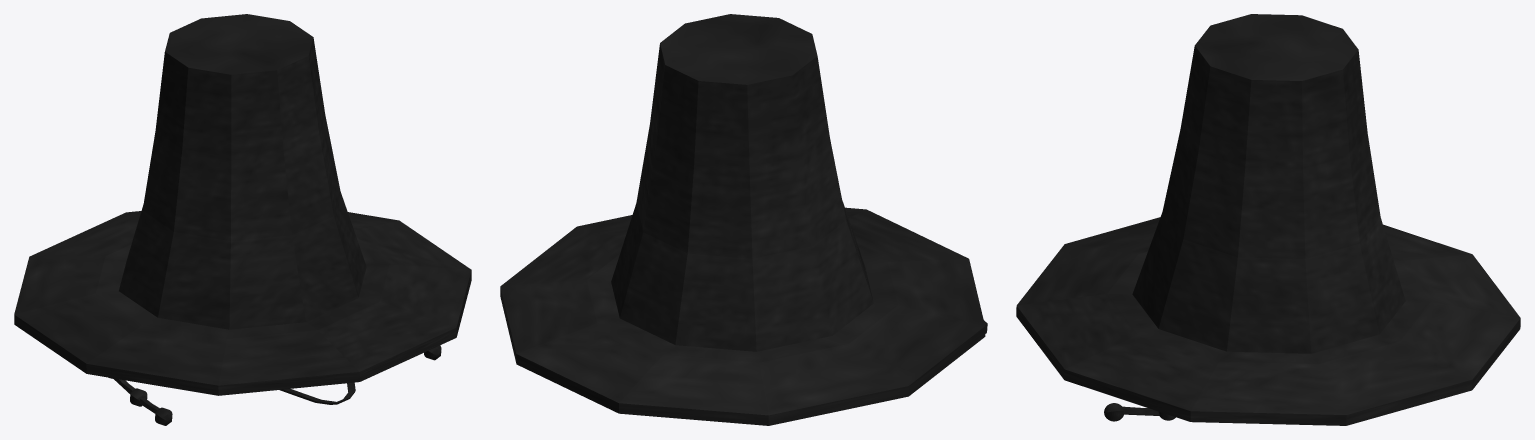
The model's file is Object_hat.fbx.
3 renders of one model, left to right at view 1: azimuth 30°, elevation 25°; view 2: azimuth 150°, elevation 25°; view 3: azimuth 270°, elevation 25°, orthographic. The views are drawn at different scales.
Parts seen in each view (by area): view 1: HAT, HAT_FLUFF; view 2: HAT; view 3: HAT, HAT_FLUFF.
Part boxes in pixels (x1=…): HAT: x1=14, y1=14, x2=471, y2=395; HAT_FLUFF: x1=109, y1=345, x2=441, y2=425; HAT: x1=500, y1=14, x2=985, y2=425; HAT: x1=1016, y1=14, x2=1520, y2=425; HAT_FLUFF: x1=1104, y1=403, x2=1175, y2=421.
Bounding box in the file's own units: 67.43 × 48.66 × 70.92.
1 material, 1 textured.
